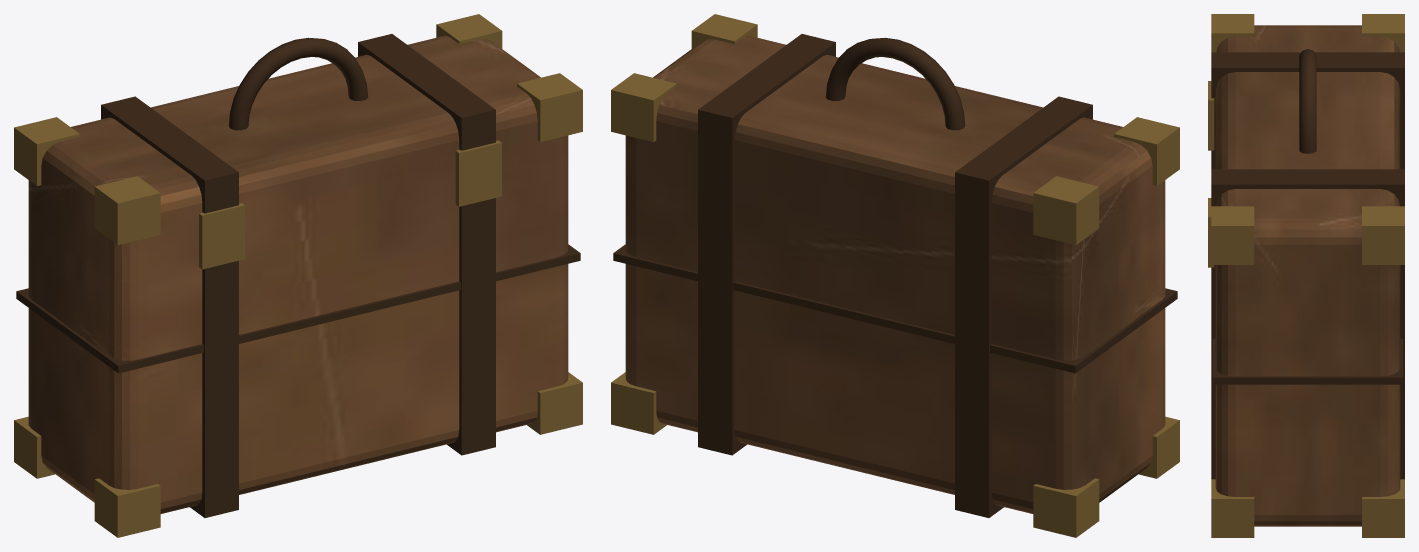
File: maleta.glb
The picture shows the model from 3 angles, left to right: view 1: azimuth 30°, elevation 25°; view 2: azimuth 150°, elevation 25°; view 3: azimuth 270°, elevation 25°; orthographic projection. The views are drawn at different scales.
Visible parts, largest first — view 1: maleta, correa, laton; view 2: maleta, correa, laton; view 3: maleta, correa, laton.
Boxes of the visible parts, x1,y1,x2,y2 form: maleta: (28,35,568,513); correa: (16,34,580,517); laton: (14,14,582,537); maleta: (625,35,1165,513); correa: (613,34,1177,517); laton: (611,14,1179,537); maleta: (1215,25,1400,526); correa: (1211,49,1404,479); laton: (1208,14,1404,537).
Bounding box in the file's own units: 3.26 × 2.71 × 1.28.
Materials: 3 (1 with a texture image).
